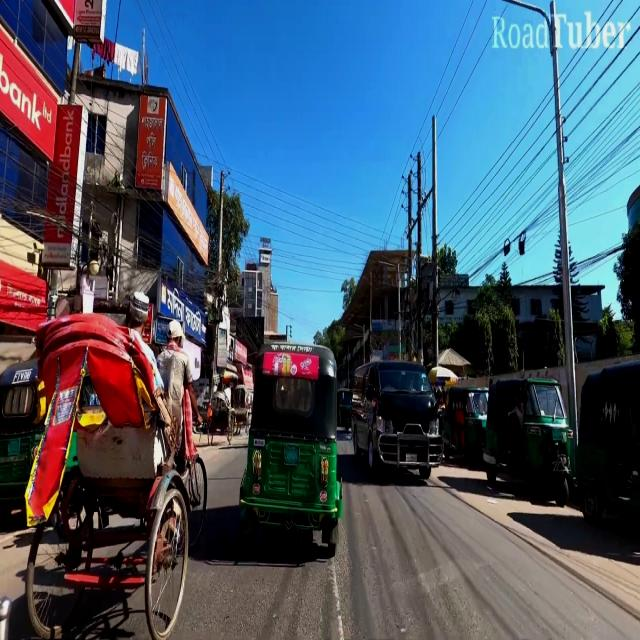black: (348, 354, 446, 482)
